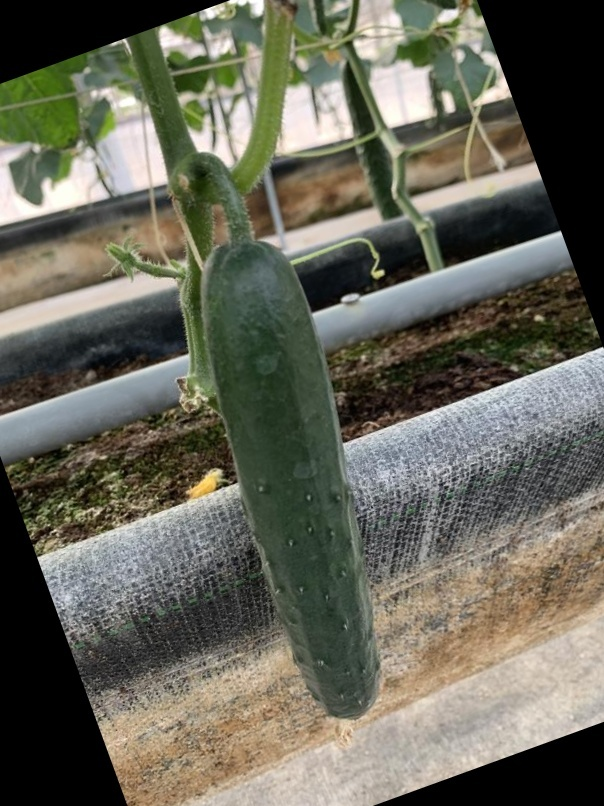mature: (193, 267, 386, 735)
